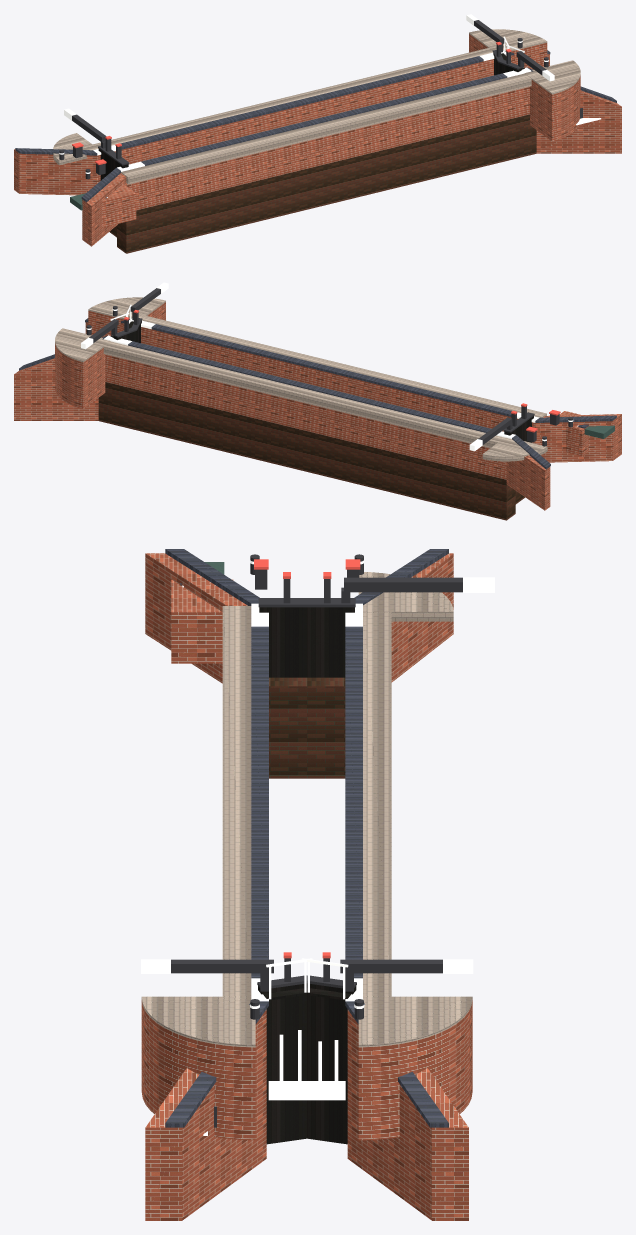
Rendered from lock-56.glb.
3 renders of one model, top to bottom at view 1: azimuth 30°, elevation 25°; view 2: azimuth 150°, elevation 25°; view 3: azimuth 270°, elevation 25°, orthographic. The views are drawn at different scales.
Parts seen in each view (by area): view 1: Chamber, ChamberWet, Edge, Coping.001, TopGateCap, Coping, TopGate; view 2: Chamber, ChamberWet, Edge, Coping.001, TopGateCap, Coping, TopGate; view 3: Chamber, Edge, Coping.001, TopGate, TopGateCap, ChamberWet, Coping, Leak.
Boxes of the visible parts, <box> form: Chamber: <box>14,34,621,246</box>; ChamberWet: <box>109,114,536,253</box>; Edge: <box>53,29,580,184</box>; Coping.001: <box>15,50,616,202</box>; TopGateCap: <box>59,20,582,179</box>; Coping: <box>59,14,554,173</box>; TopGate: <box>98,53,524,180</box>; Chamber: <box>14,302,621,510</box>; ChamberWet: <box>98,382,524,520</box>; Edge: <box>55,297,547,461</box>; Coping.001: <box>19,318,616,469</box>; TopGateCap: <box>86,288,572,446</box>; Coping: <box>81,282,573,451</box>; TopGate: <box>110,321,533,442</box>; Chamber: <box>141,553,472,1220</box>; Edge: <box>141,572,472,1046</box>; Coping.001: <box>165,549,448,1127</box>; TopGate: <box>258,607,356,1144</box>; TopGateCap: <box>171,554,462,1127</box>; ChamberWet: <box>269,677,345,778</box>; Coping: <box>141,560,494,1008</box>; Leak: <box>182,585,345,1135</box>.
Bounding box in the file's own units: 33.22 × 5.8 × 9.63.
Materials: 11 (8 with a texture image).
